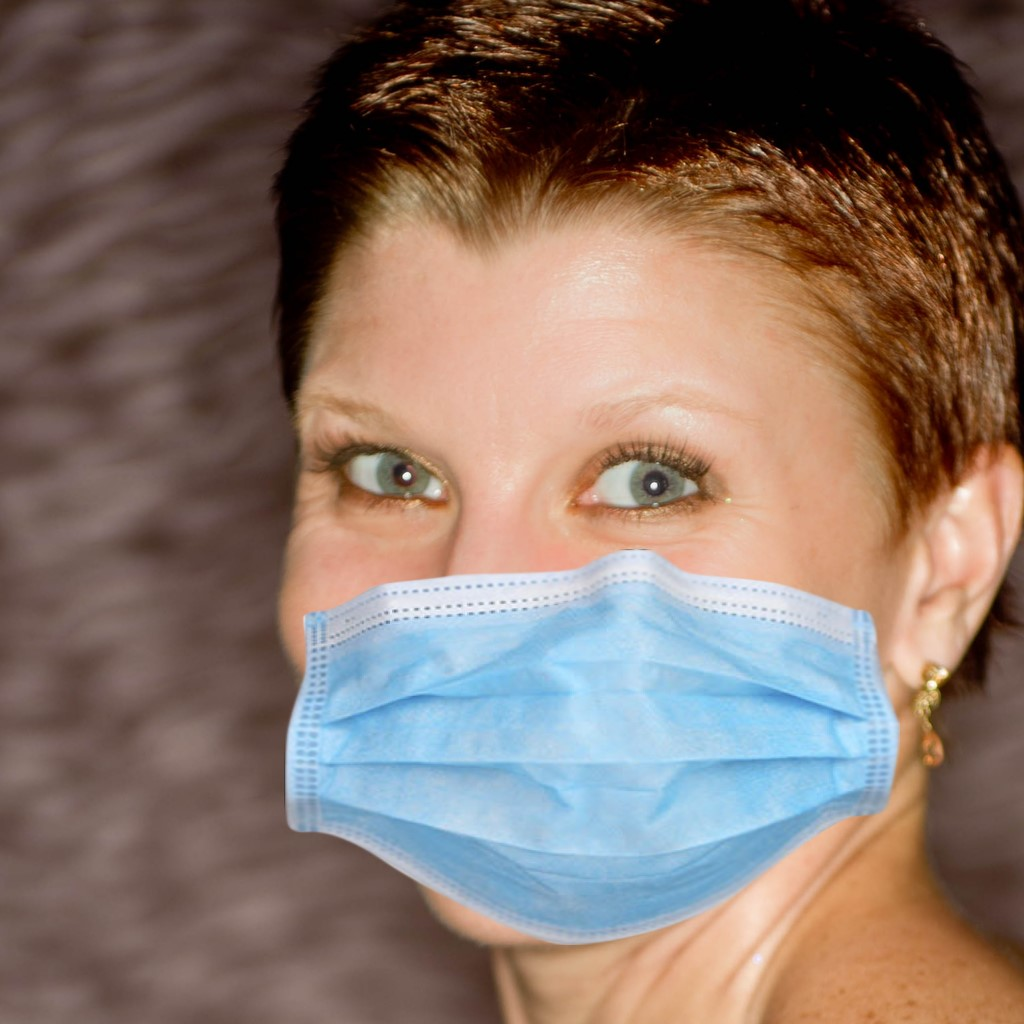con_mascara: (290, 99, 943, 976)
